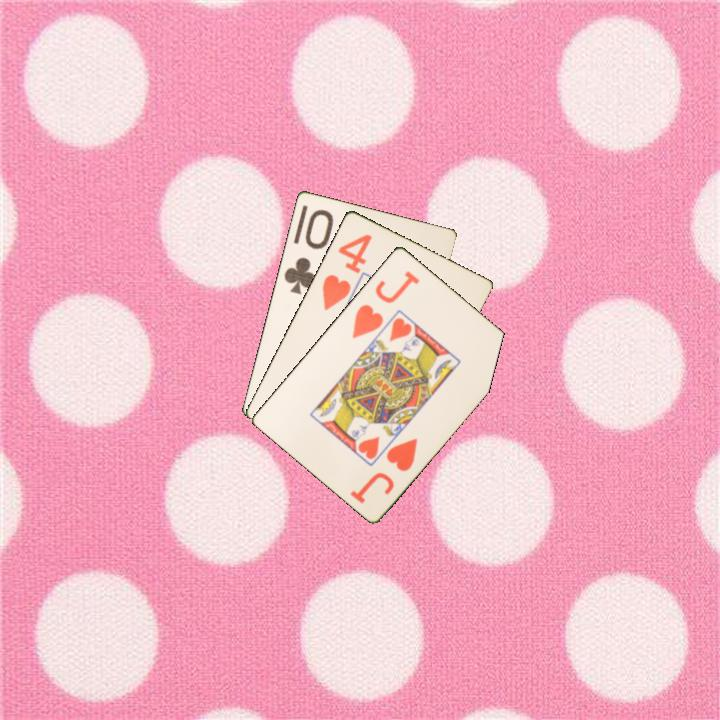10c: (280, 205, 335, 297)
4h: (318, 230, 375, 313)
Jh: (348, 267, 422, 341), (383, 434, 421, 474)
